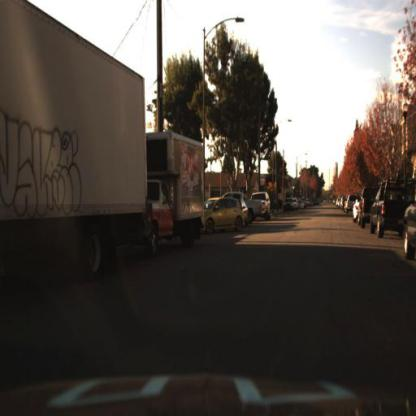car: (369, 177, 415, 243), (369, 179, 405, 241), (199, 195, 243, 239), (403, 160, 416, 282), (401, 175, 416, 266), (204, 198, 244, 231), (358, 177, 376, 237), (257, 191, 272, 221), (248, 199, 264, 224), (344, 191, 357, 219), (351, 196, 362, 227), (282, 197, 295, 215)
truck: (1, 7, 150, 284), (1, 1, 148, 276), (139, 128, 211, 260), (137, 129, 207, 260)
